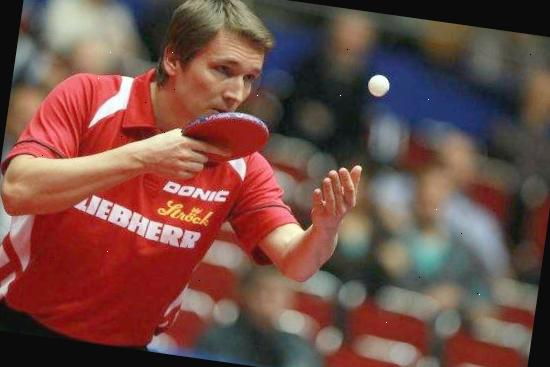ball: (363, 69, 392, 99)
